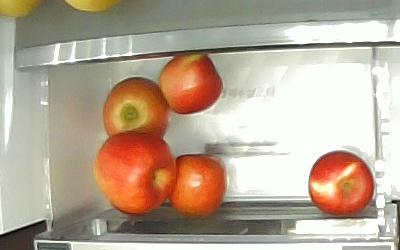apple: (91, 130, 178, 216), (307, 149, 374, 216), (101, 75, 170, 139), (166, 152, 227, 219), (159, 54, 223, 114)
